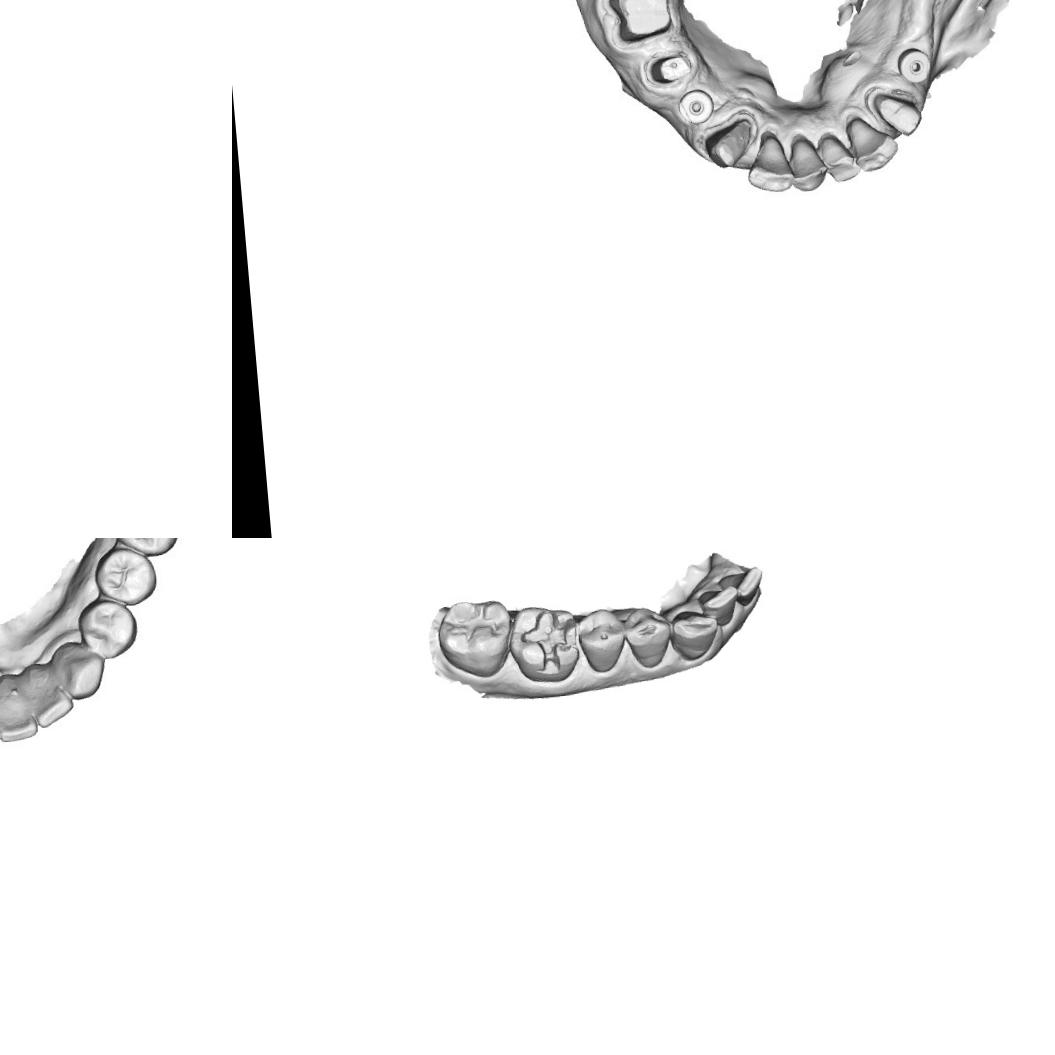canine: (52, 640, 105, 700), (666, 606, 722, 662)
crown: (608, 0, 678, 42), (705, 114, 755, 168), (875, 86, 925, 138), (649, 48, 694, 92)
implant: (895, 43, 938, 86), (676, 86, 718, 129)
incisor: (747, 129, 798, 194), (28, 664, 74, 726), (850, 112, 896, 169), (790, 130, 827, 190), (818, 130, 858, 181), (718, 565, 766, 607), (697, 584, 740, 628), (0, 680, 32, 737)
inlay: (515, 606, 580, 674)
molar: (433, 594, 516, 680), (106, 538, 189, 557)
premolar: (94, 541, 161, 608), (574, 604, 628, 676), (620, 603, 676, 671), (80, 598, 137, 658)
